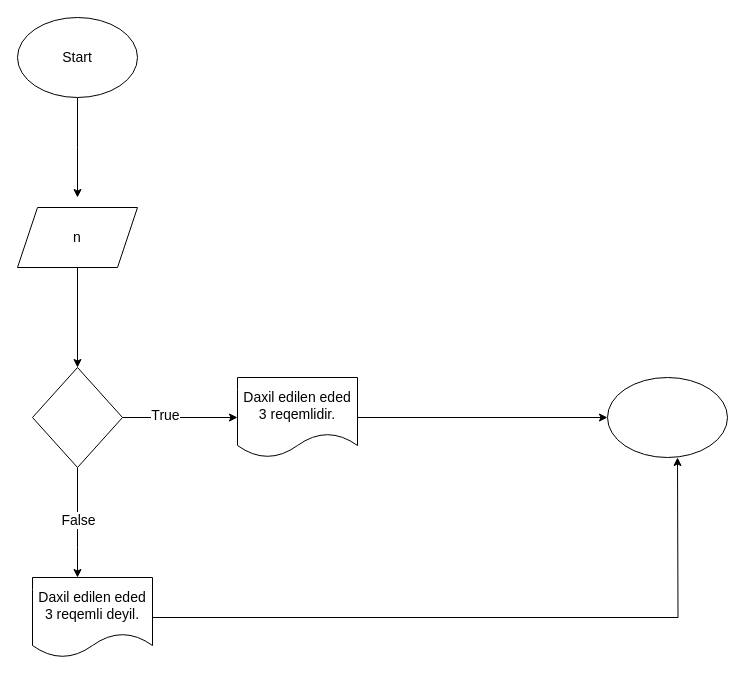
This 745x675 diagram has some shape labels left out. Here are the shapes that lost their labels. From the top down, the centre of each, then its label:
At (x=77, y=417): "n<100 && n>999".
At (x=667, y=417): "End".
